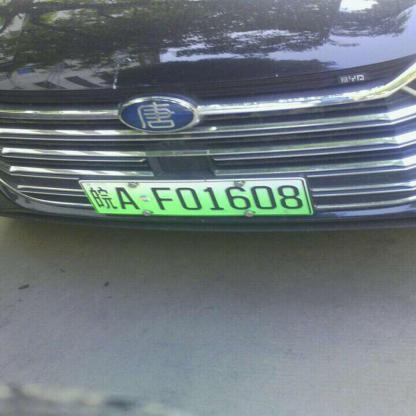lp: (82, 180, 308, 212)
